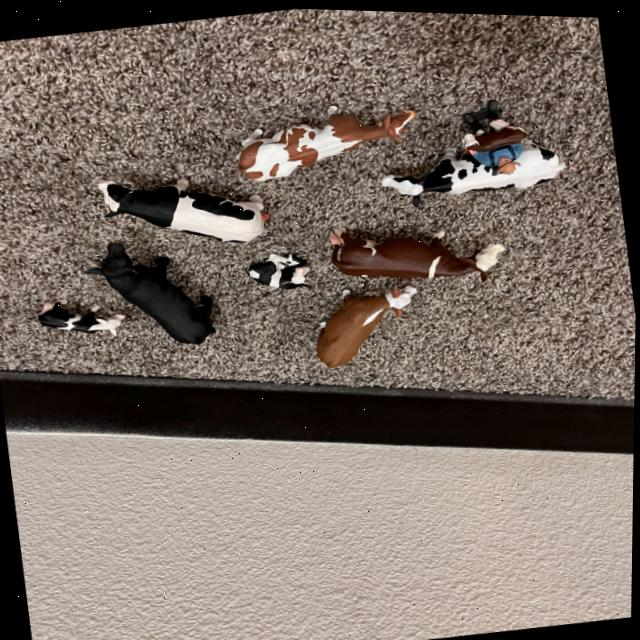cow: (84, 221, 231, 363), (230, 82, 422, 187), (297, 252, 424, 373), (95, 166, 270, 245), (379, 132, 568, 202), (330, 225, 506, 278), (461, 110, 528, 154), (38, 302, 127, 334), (247, 250, 312, 289)
person: (473, 139, 526, 174)
